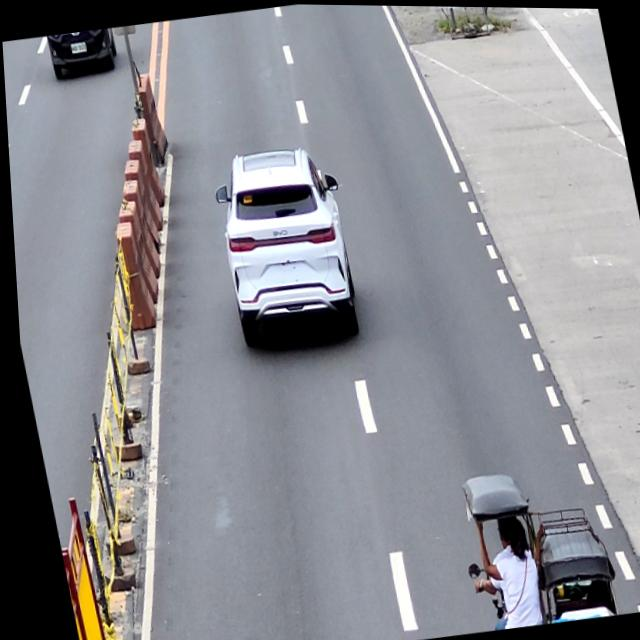Car: (205, 141, 365, 352)
